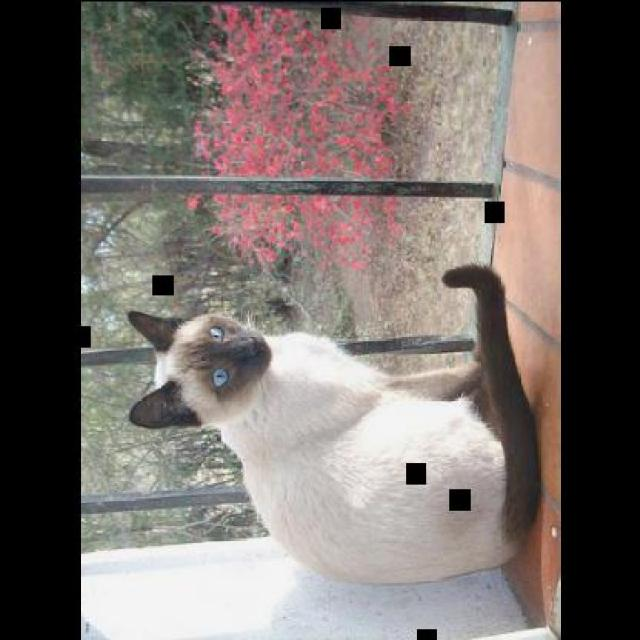unauthorized: (125, 263, 544, 586)
